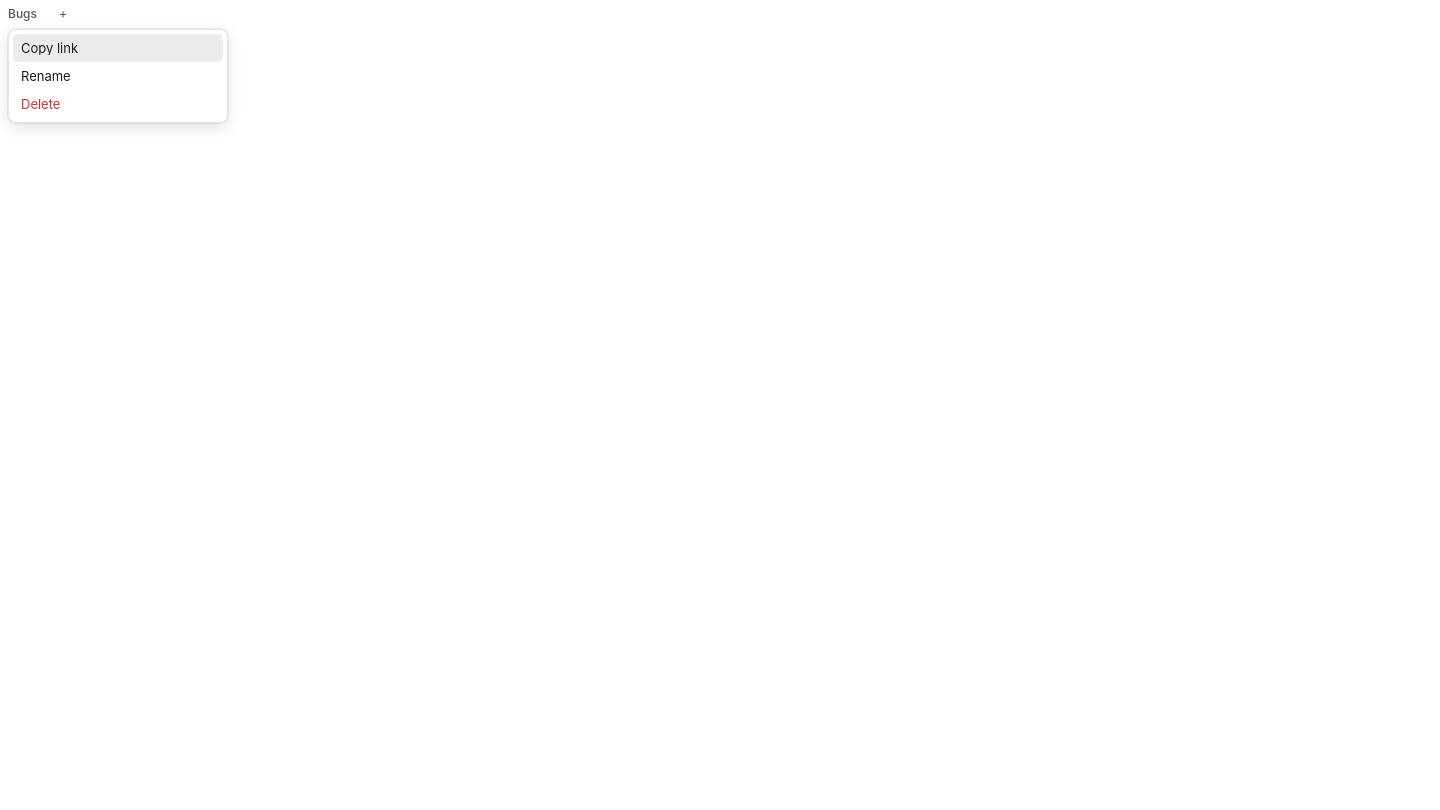
Test: project view tabs › keeps the delete dialog open and says why when the delete is refused
Click the menu item "Delete" at (41, 104), box left=21, top=96, right=60, bottom=112
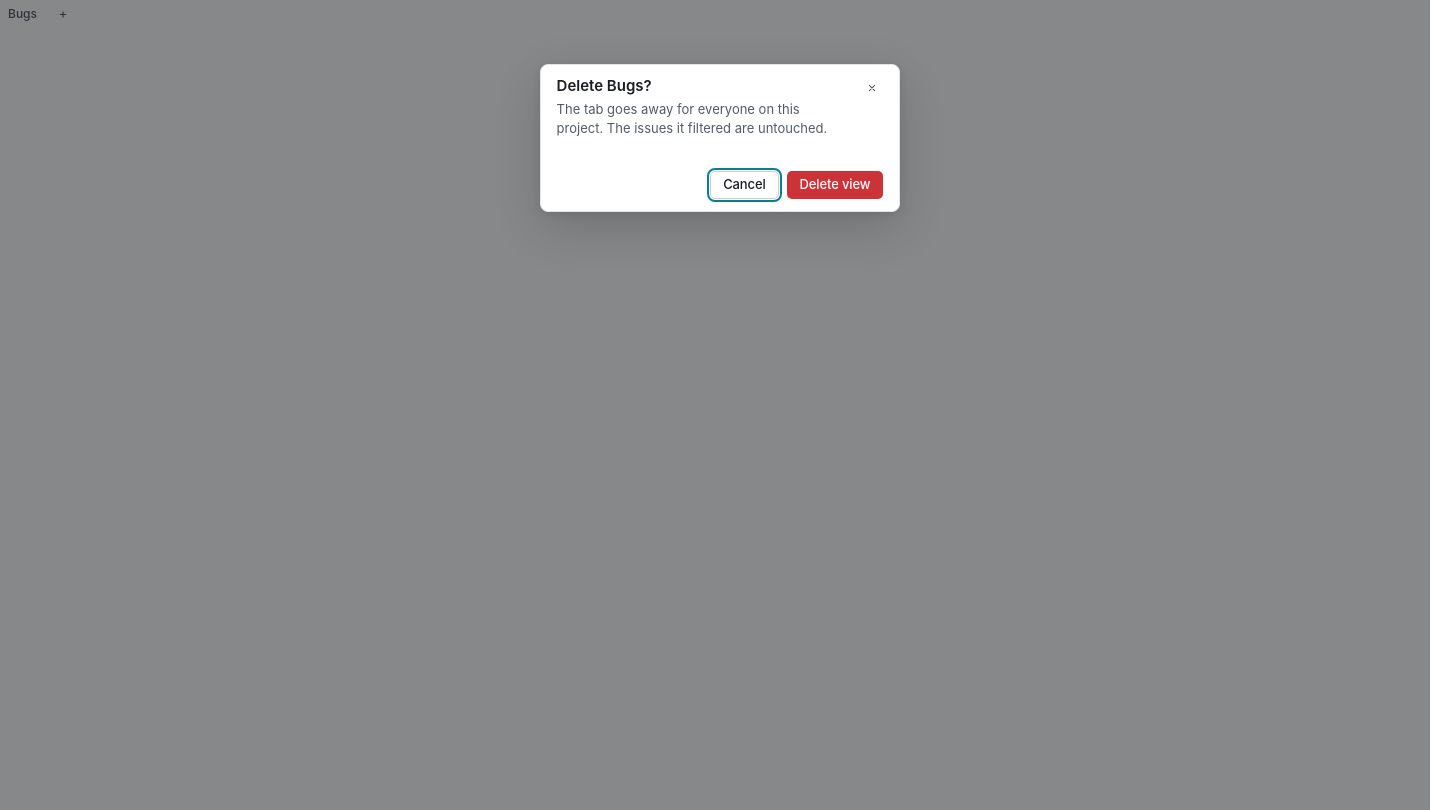
Click the button "Delete view" at (835, 185), box left=787, top=171, right=884, bottom=199
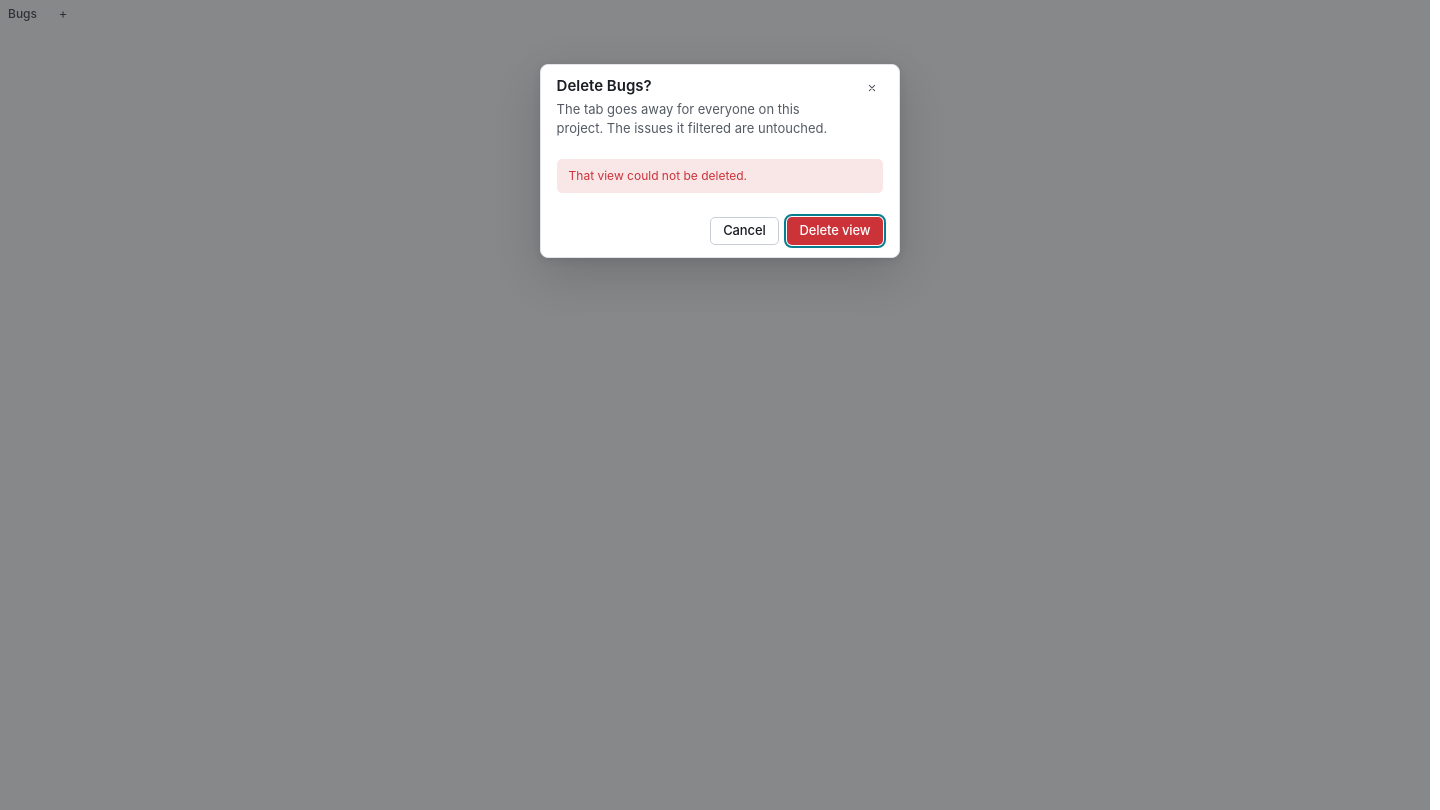
Now the button "Delete view" is shown, box left=787, top=217, right=884, bottom=245
Now the message reads "That view could not be deleted.", box left=569, top=168, right=747, bottom=183
